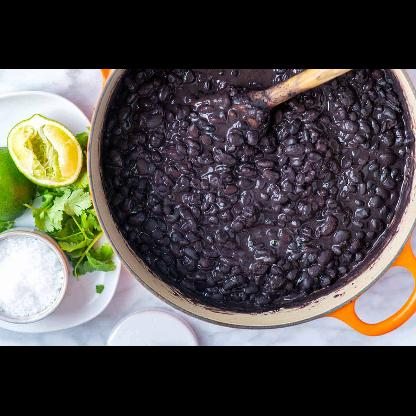black beans: (104, 70, 410, 312)
